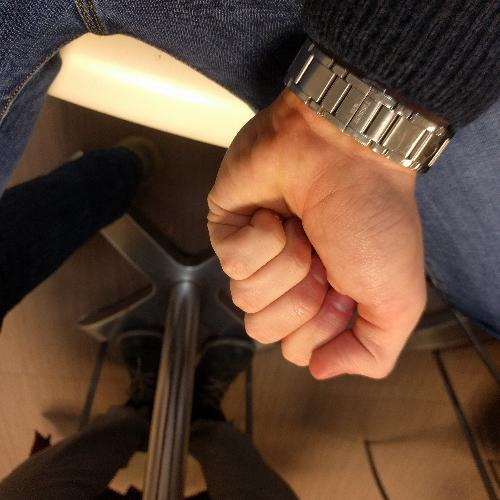rock: (201, 84, 434, 384)
